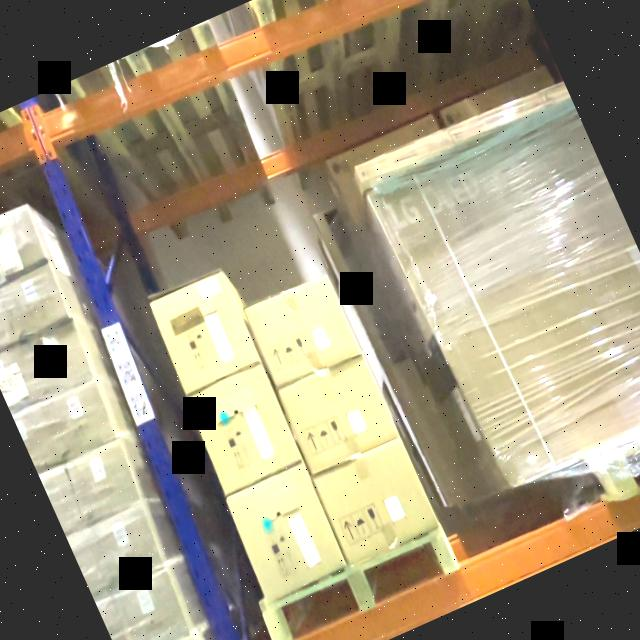box: (187, 365, 304, 497), (228, 471, 347, 598), (316, 442, 438, 561), (281, 361, 398, 474), (245, 274, 360, 387), (153, 277, 256, 390)
